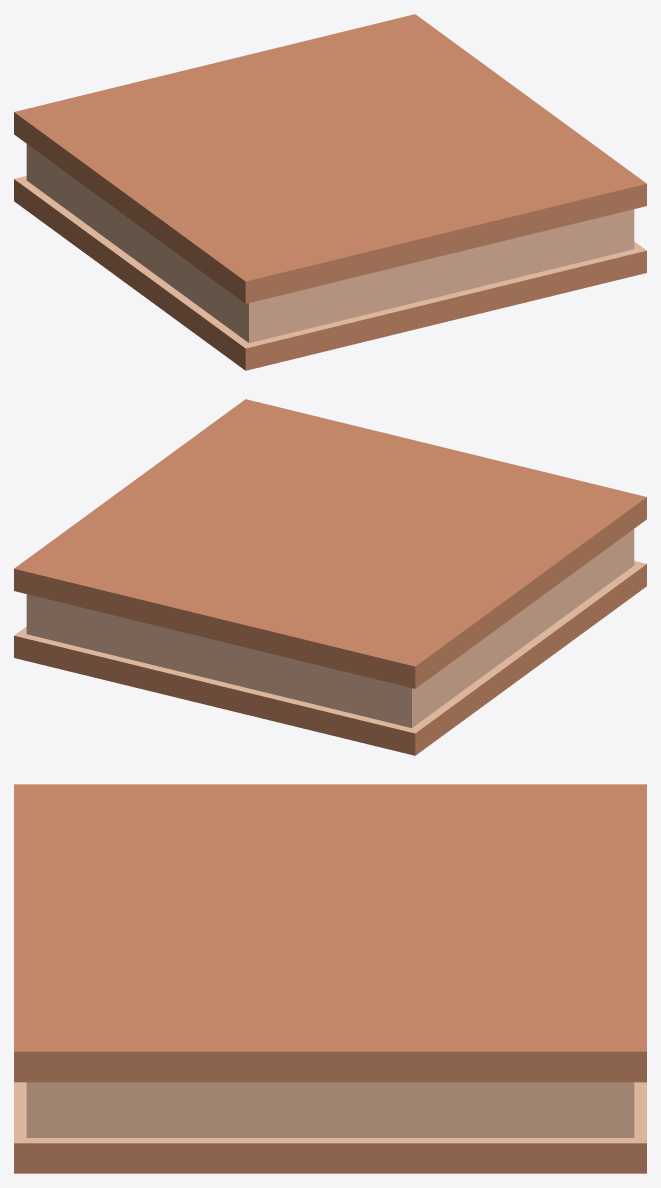
File: RoofFlatDetailB.fbx
3 renders of one model, top to bottom at view 1: azimuth 30°, elevation 25°; view 2: azimuth 150°, elevation 25°; view 3: azimuth 270°, elevation 25°, orthographic. The views are drawn at different scales.
Visible parts, largest first — view 1: RoofFlatDetailB; view 2: RoofFlatDetailB; view 3: RoofFlatDetailB.
Part boxes in pixels (bbox=[...]): RoofFlatDetailB: bbox=[14, 14, 646, 370]; RoofFlatDetailB: bbox=[14, 399, 646, 755]; RoofFlatDetailB: bbox=[14, 784, 646, 1173].
Bounding box in the file's own units: 300 × 63.75 × 300.
